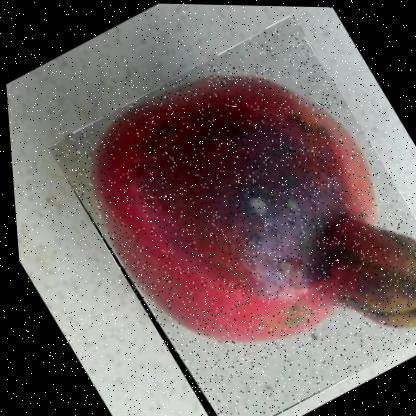pomegranate_rotten: (35, 7, 415, 415)
